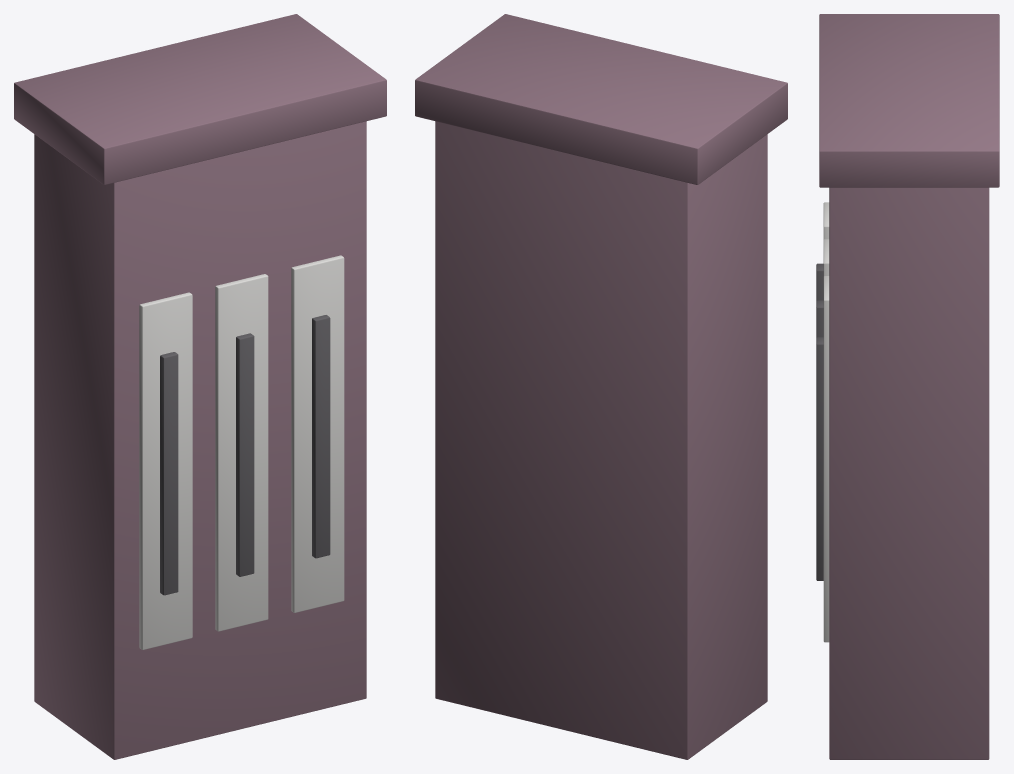
Rendered from perk_third_holster.gltf.
3 renders of one model, left to right at view 1: azimuth 30°, elevation 25°; view 2: azimuth 150°, elevation 25°; view 3: azimuth 270°, elevation 25°, orthographic.
Visible parts, largest first — view 1: Body, Glow; view 2: Body; view 3: Body, Glow.
Part boxes in pixels (left/top/right/bottom): Body: left=14, top=14, right=386, bottom=759; Glow: left=139, top=255, right=344, bottom=649; Body: left=415, top=14, right=787, bottom=759; Body: left=816, top=14, right=999, bottom=759; Glow: left=823, top=202, right=829, bottom=642.
Bounding box in the file's own units: 1.12 × 2.34 × 0.63.
